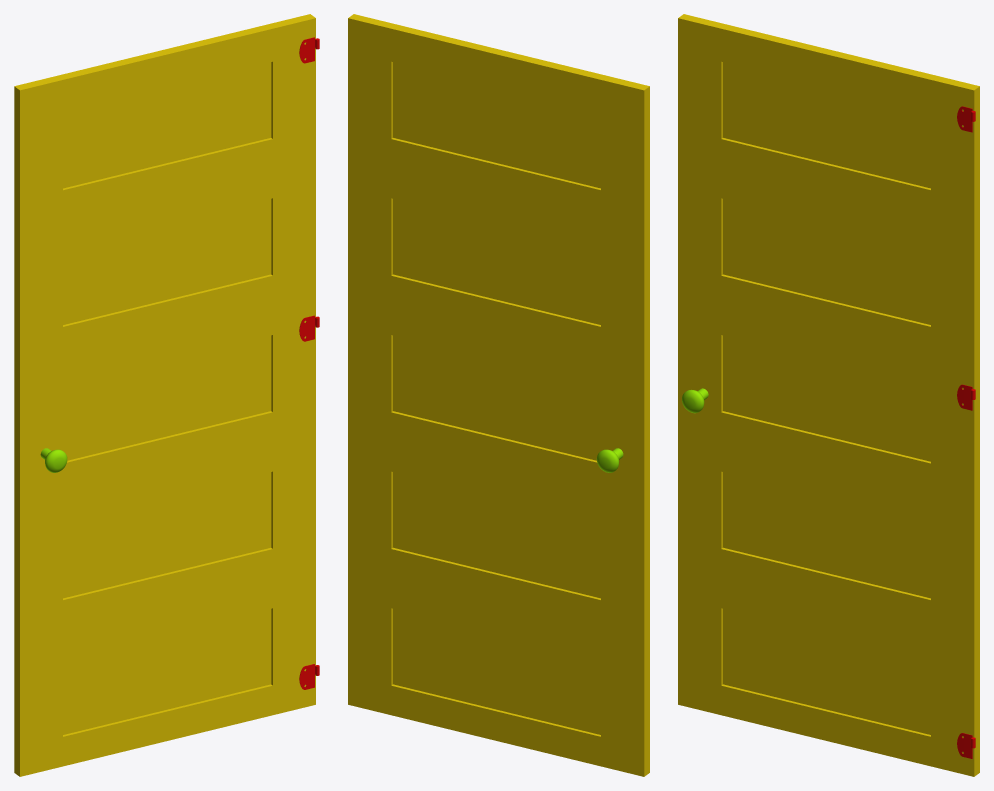
File: door_single_fancy.fbx
The picture shows the model from 3 angles, left to right: view 1: azimuth 30°, elevation 25°; view 2: azimuth 150°, elevation 25°; view 3: azimuth 330°, elevation 25°; orthographic projection.
Visible parts, largest first — view 1: Cylinder.008; view 2: Cylinder.008; view 3: Cylinder.008.
Part boxes in pixels (<box>): Cylinder.008: <box>14,14,319,776</box>; Cylinder.008: <box>348,14,649,776</box>; Cylinder.008: <box>678,14,979,776</box>.
Bounding box in the file's own units: 89.9 × 198 × 17.11.
